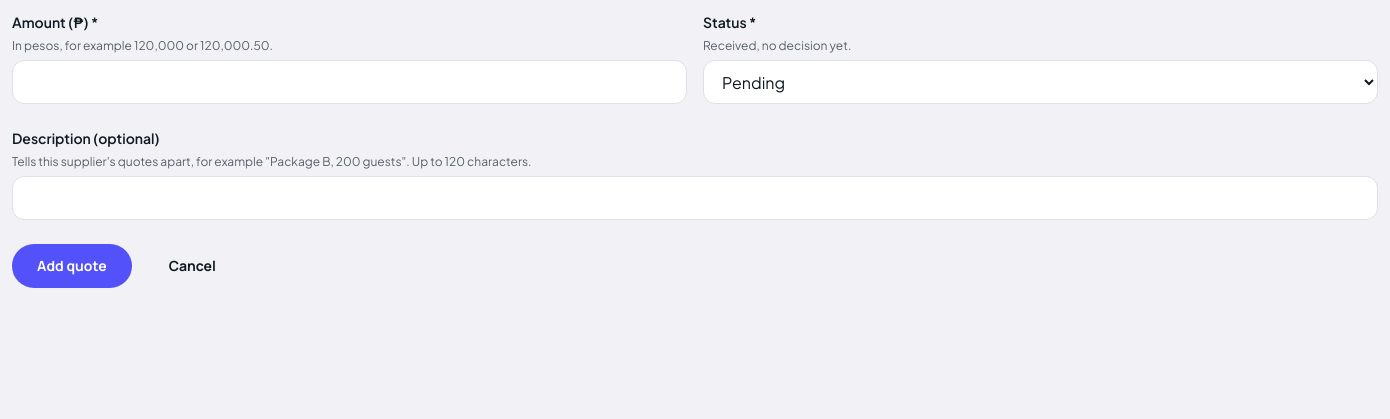
Scenario: QuoteForm › shows a refusal from the server as a banner
Type "1000" into the field labelled "Amount (₱) *" at (350, 82), box [12, 60, 687, 104]
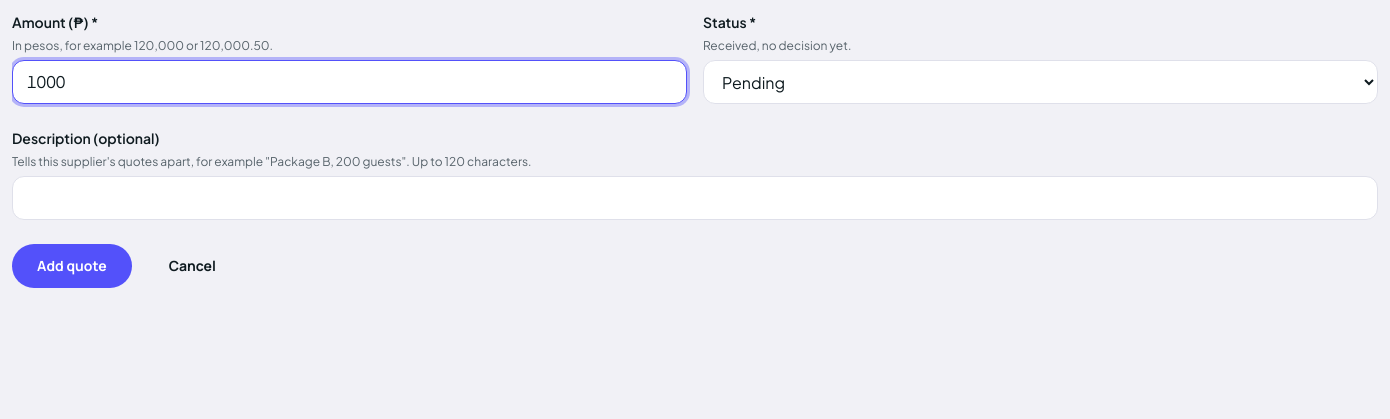
Click the button "Add quote" at (72, 266), box [12, 244, 132, 288]
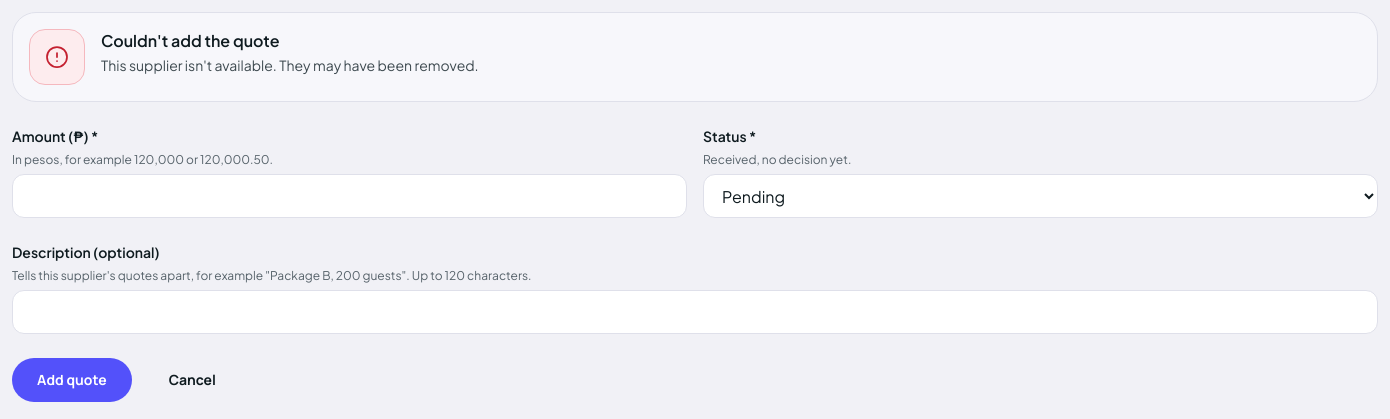
Now the text "Couldn't add the quote" is shown, box [100, 29, 280, 51]
Now the text "This supplier isn't available. They may have been removed." is shown, box [101, 56, 479, 74]
